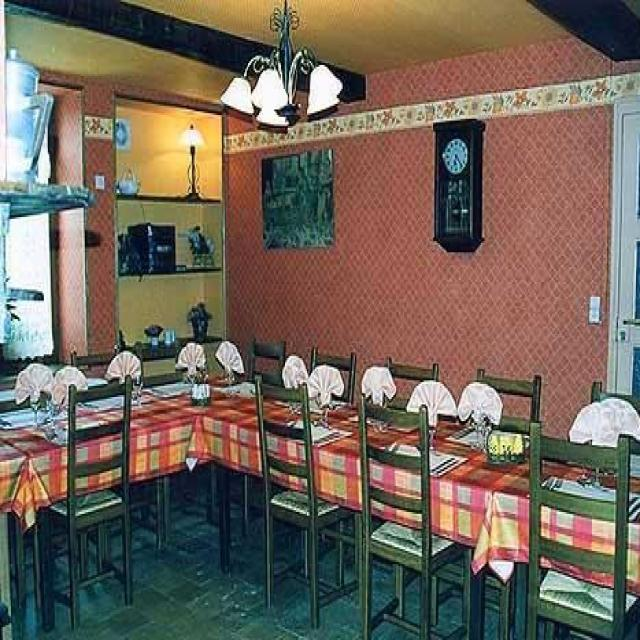clock: (432, 117, 485, 252)
door: (606, 95, 638, 406)
lamps: (219, 0, 343, 130), (180, 122, 206, 200)
window: (112, 91, 225, 354)
windows: (260, 145, 334, 250)
